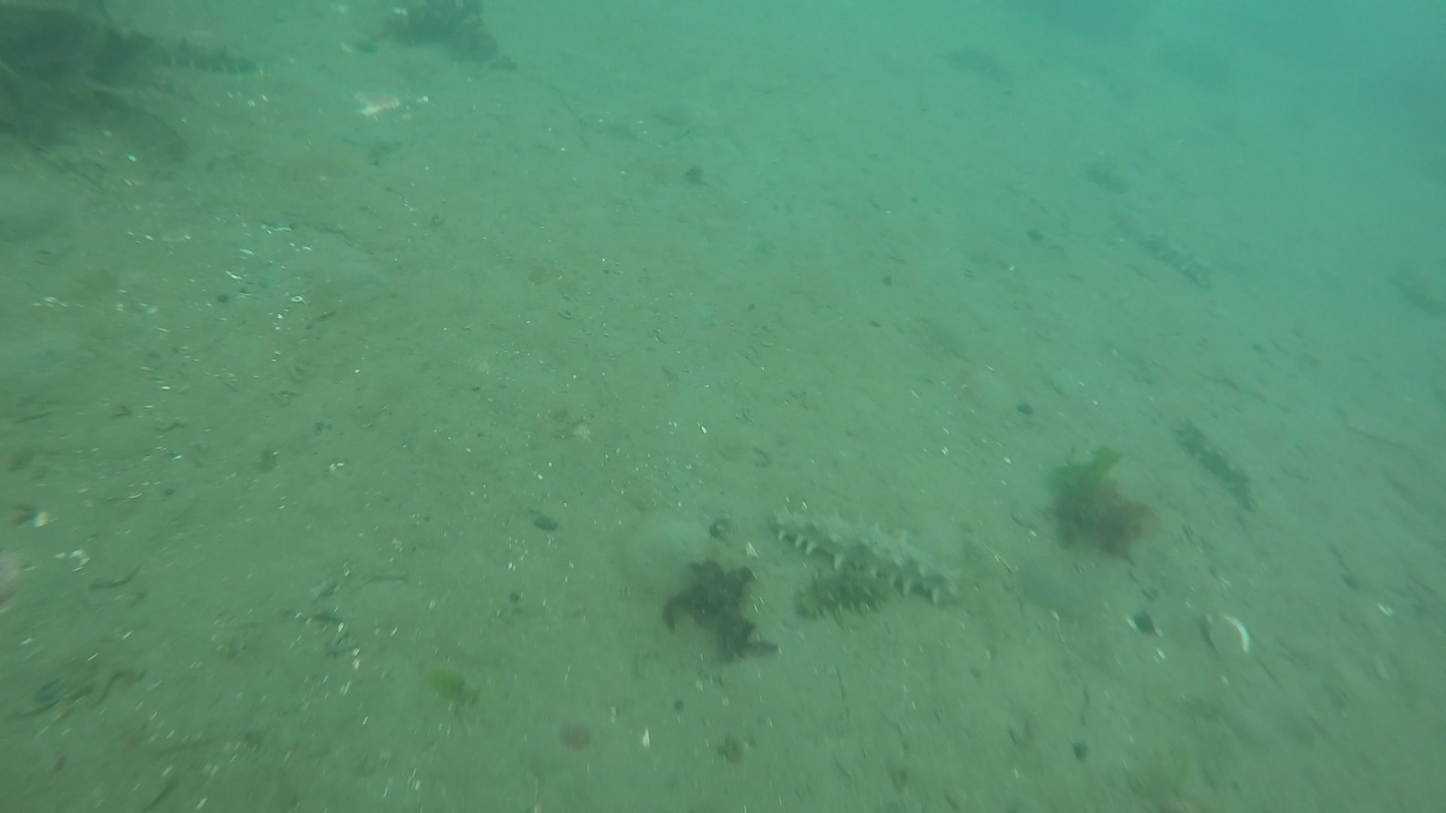echinus: (764, 504, 959, 605), (125, 40, 259, 75), (796, 574, 888, 617)
